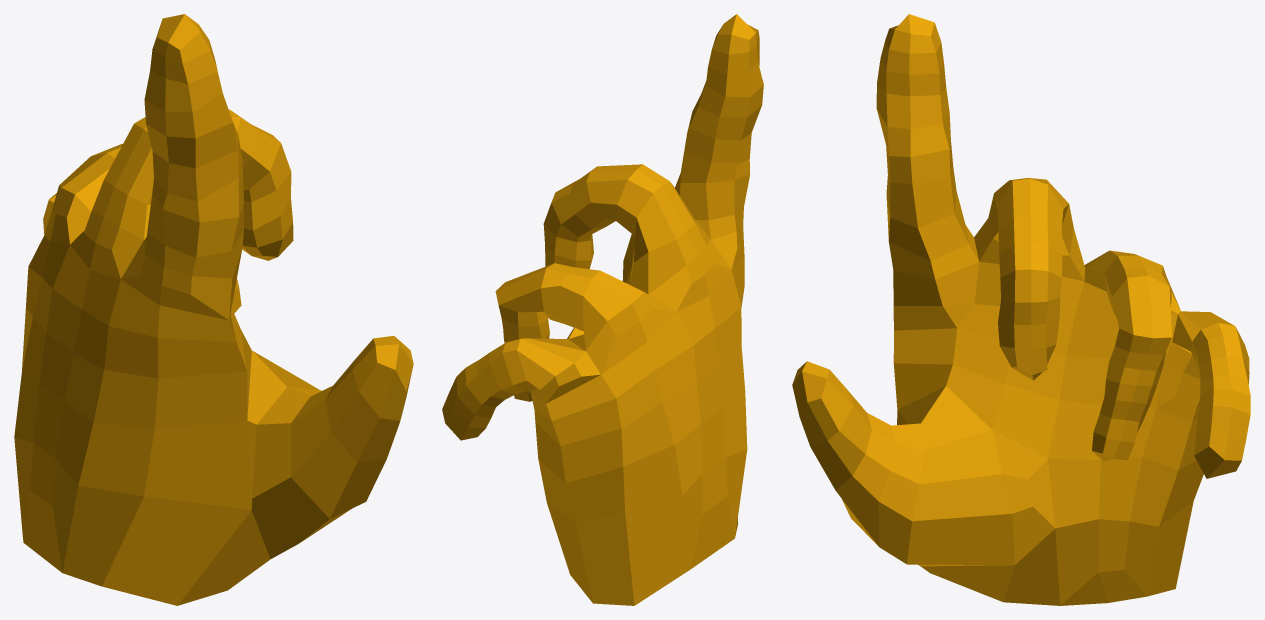
File: hand_Broken.fbx
3 renders of one model, left to right at view 1: azimuth 30°, elevation 25°; view 2: azimuth 150°, elevation 25°; view 3: azimuth 270°, elevation 25°, orthographic. The views are drawn at different scales.
Parts seen in each view (by area): view 1: polySurface255, polySurface253, polySurface246, polySurface248; view 2: polySurface255, polySurface246, polySurface248, polySurface252, polySurface250; view 3: polySurface255, polySurface253, polySurface246, polySurface248, polySurface250, polySurface252.
Part boxes in pixels (x1,y1,x2,y2): polySurface255: (14, 124, 319, 605); polySurface253: (251, 336, 413, 558); polySurface246: (144, 14, 243, 222); polySurface248: (134, 109, 293, 260); polySurface255: (513, 173, 749, 605); polySurface246: (680, 14, 763, 183); polySurface248: (543, 164, 668, 269); polySurface252: (442, 338, 585, 440); polySurface250: (495, 263, 573, 401); polySurface255: (886, 192, 1203, 605); polySurface253: (792, 361, 1014, 566); polySurface246: (876, 14, 956, 228); polySurface248: (994, 178, 1068, 380); polySurface250: (1092, 267, 1172, 461); polySurface252: (1178, 311, 1250, 478).
Bounding box in the file's own units: 0.1851 × 0.4465 × 0.3299.
